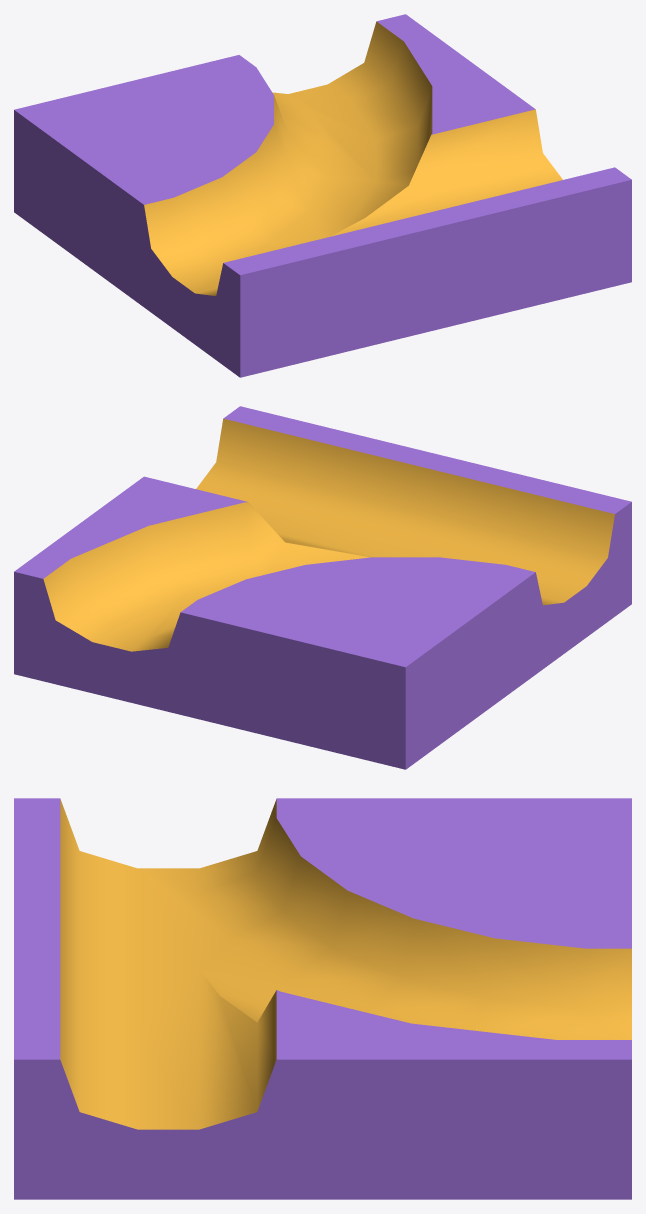
File: split-solid-left.glb
3 views of the same model, one above another, from view 1: azimuth 30°, elevation 25°; view 2: azimuth 150°, elevation 25°; view 3: azimuth 270°, elevation 25° (orthographic). The views are drawn at different scales.
Visible parts, largest first — view 1: split-solid-left; view 2: split-solid-left; view 3: split-solid-left.
Boxes of the visible parts, x1,y1,x2,y2 form: split-solid-left: (14,14,631,377); split-solid-left: (14,406,631,769); split-solid-left: (14,798,631,1199).
Bounding box in the file's own units: 2 × 0.5 × 2.
1 material, 1 textured.
